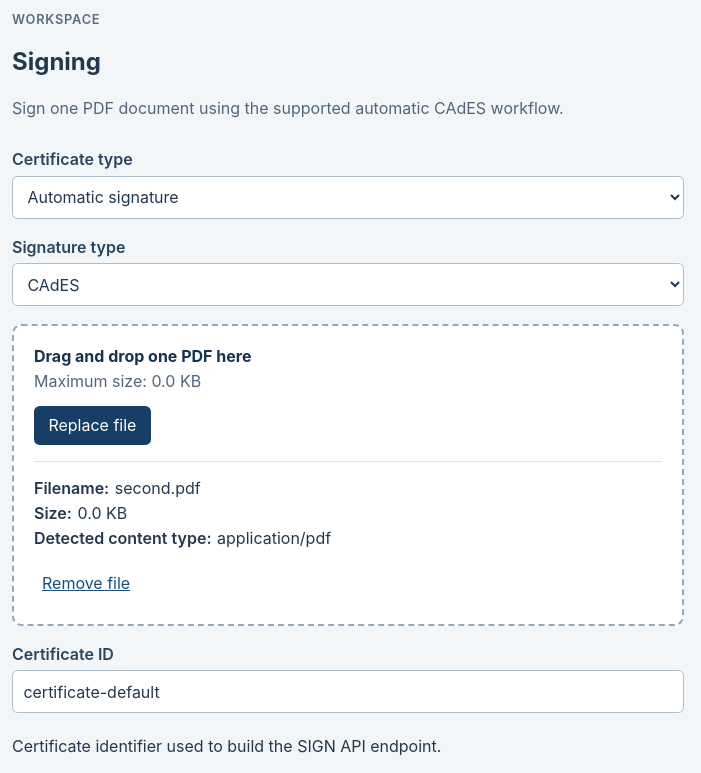
Test: SigningPage › uses the Select file button and supports replacing and removing a file
The width and height of the screenshot is (701, 773).
Earlier steps of the test are not shown.
Expected: the button "Replace file" is shown, [34,406,151,445]
Expected: the text "second.pdf" is shown, [115,478,201,498]
Click the button "Remove file".
click(86, 583)  # box [26,562,146,604]
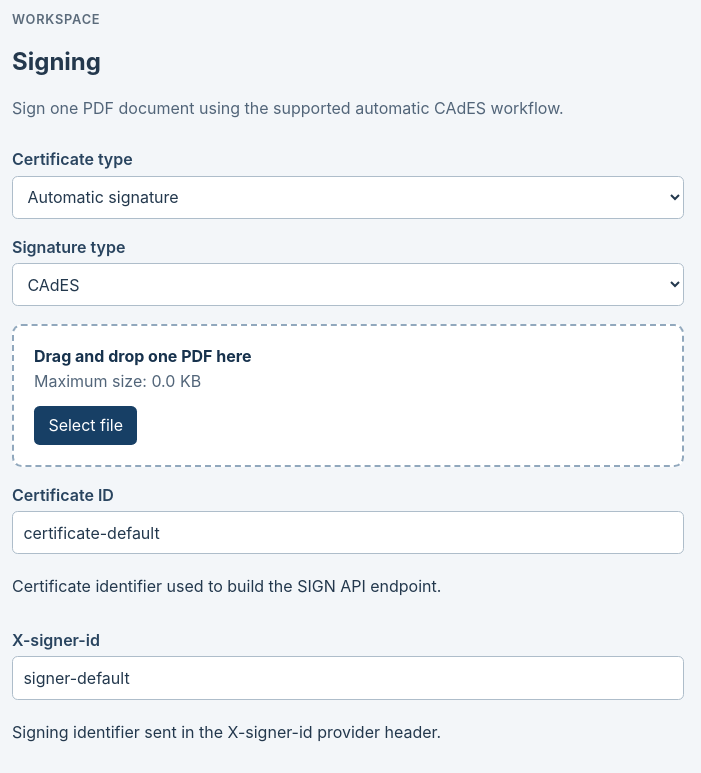
Expected: the text "second.pdf" is gone
